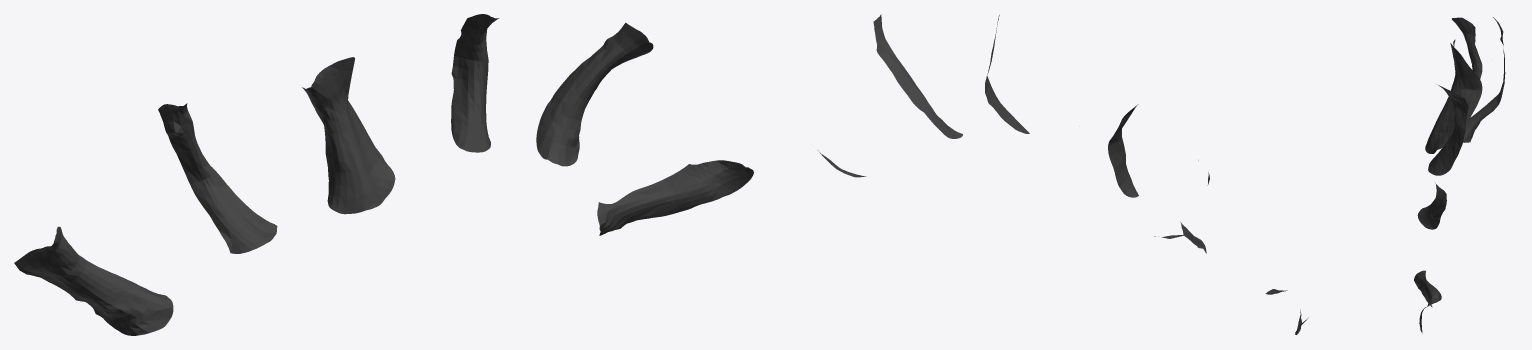
File: canine_kidney_pelvic_recesses.glb
3 views of the same model, side by side, from view 1: azimuth 30°, elevation 25°; view 2: azimuth 150°, elevation 25°; view 3: azimuth 270°, elevation 25° (orthographic). The views are drawn at different scales.
Visible parts, largest first — view 1: canine_kidney_pelvic_recesses; view 2: canine_kidney_pelvic_recesses; view 3: canine_kidney_pelvic_recesses.
Boxes of the visible parts, x1,y1,x2,y2 form: canine_kidney_pelvic_recesses: [14, 14, 753, 335]; canine_kidney_pelvic_recesses: [818, 14, 1308, 334]; canine_kidney_pelvic_recesses: [1414, 17, 1505, 333].
Size of the model in its own units: 0.3646 by 0.1252 by 0.0637.
Materials: 1 (1 with a texture image).
